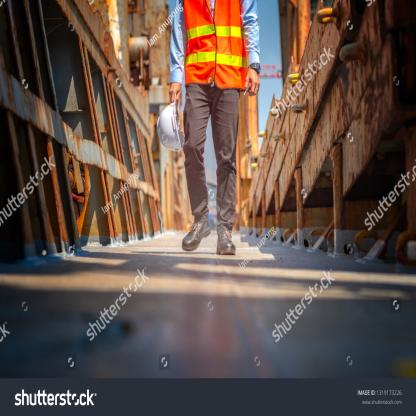bota: (180, 216, 214, 254), (214, 221, 239, 257)
